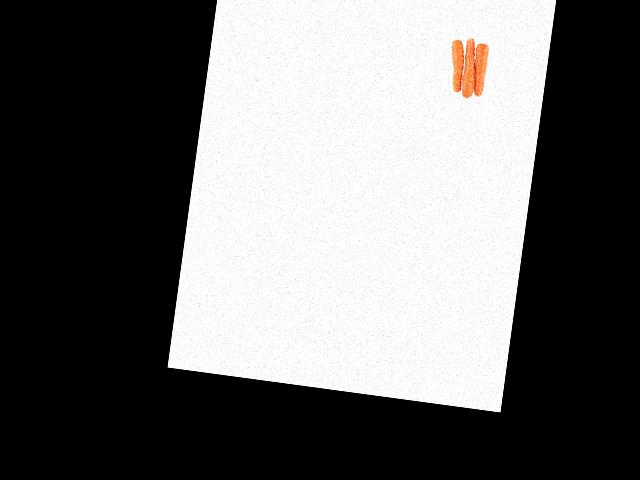carrot: (470, 38, 491, 102)
